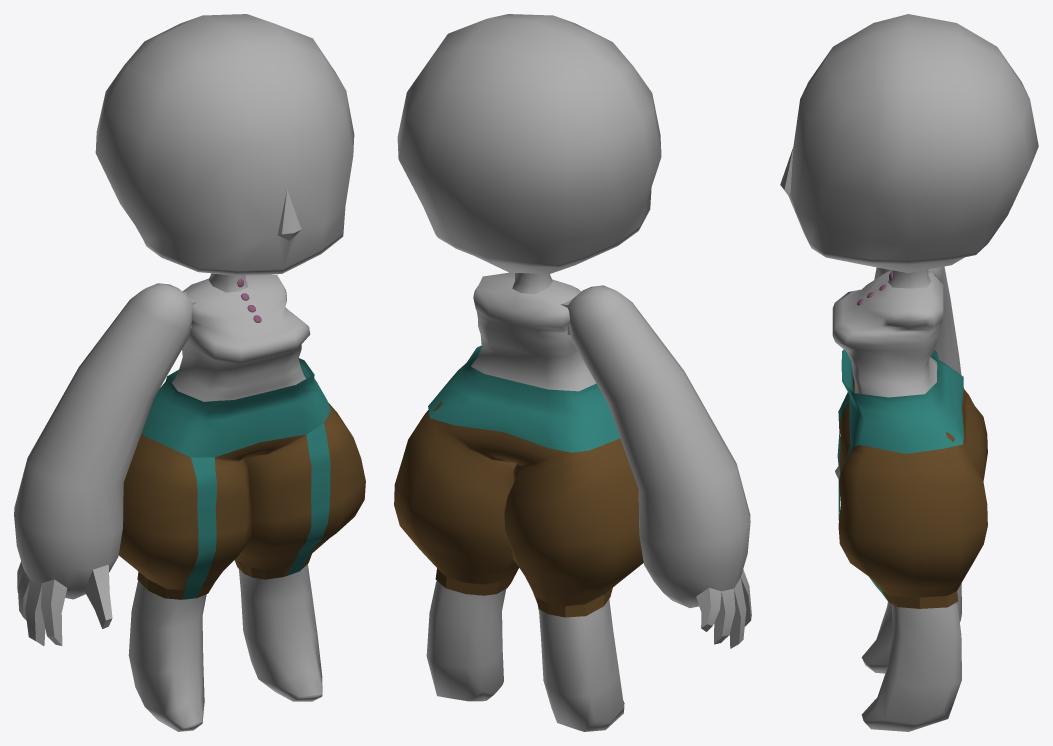
File: Pyrrha.fbx
3 renders of one model, left to right at view 1: azimuth 30°, elevation 25°; view 2: azimuth 150°, elevation 25°; view 3: azimuth 270°, elevation 25°, orthographic. The views are drawn at different scales.
Visible parts, largest first — view 1: pCube7, pCube2, Pants2, pCube15; view 2: pCube7, Pants2, pCube2, pCube15; view 3: pCube7, Pants2, pCube15, pCube2.
Boxes of the visible parts, x1,y1,x2,y2 form: pCube7: (95,14,354,731); pCube2: (14,283,196,645); Pants2: (118,402,365,599); pCube15: (141,358,331,599); pCube7: (397,14,661,731); Pants2: (394,401,643,617); pCube2: (561,285,751,648); pCube15: (428,345,619,452); pCube7: (780,14,1038,731); Pants2: (838,378,987,608); pCube15: (837,349,963,601); pCube2: (835,266,961,479).
Bounding box in the file's own units: 63.67 × 126 × 44.12.
